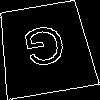G: (20, 24, 71, 77)
